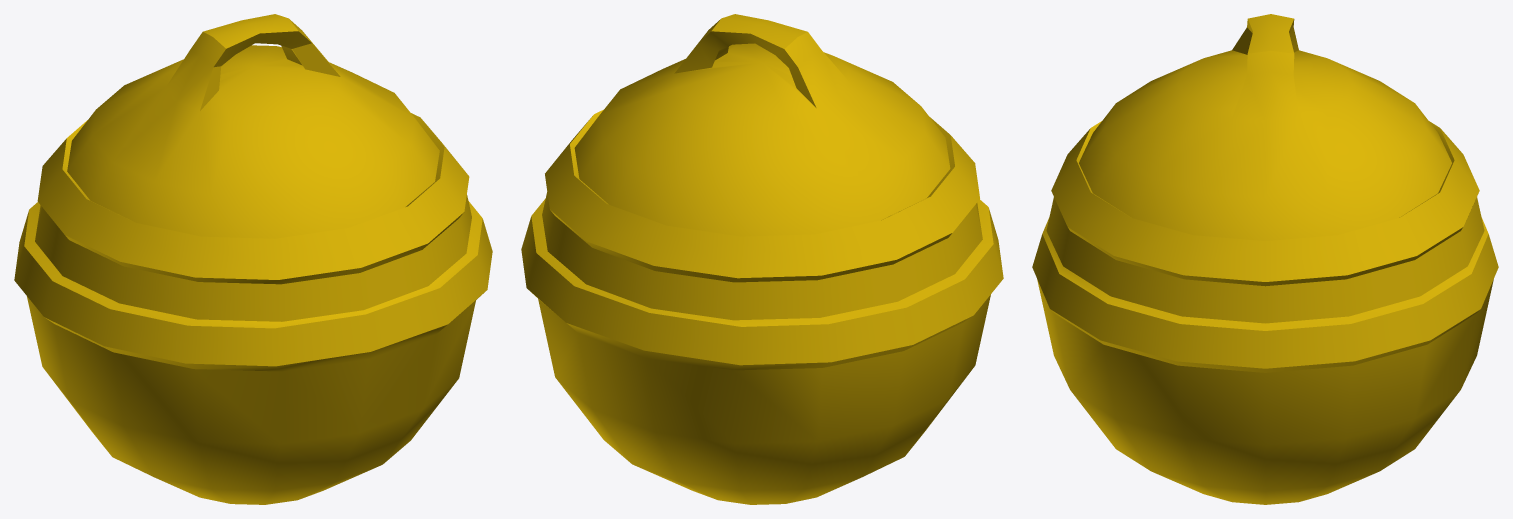
Rendered from littleBuoy.fbx.
3 views of the same model, side by side, from view 1: azimuth 30°, elevation 25°; view 2: azimuth 150°, elevation 25°; view 3: azimuth 270°, elevation 25° (orthographic).
Visible parts, largest first — view 1: Sphere; view 2: Sphere; view 3: Sphere.
Boxes of the visible parts, x1,y1,x2,y2 form: Sphere: (14, 14, 492, 504); Sphere: (521, 14, 1003, 504); Sphere: (1032, 14, 1498, 504).
Bounding box in the file's own units: 210 × 219 × 204.
